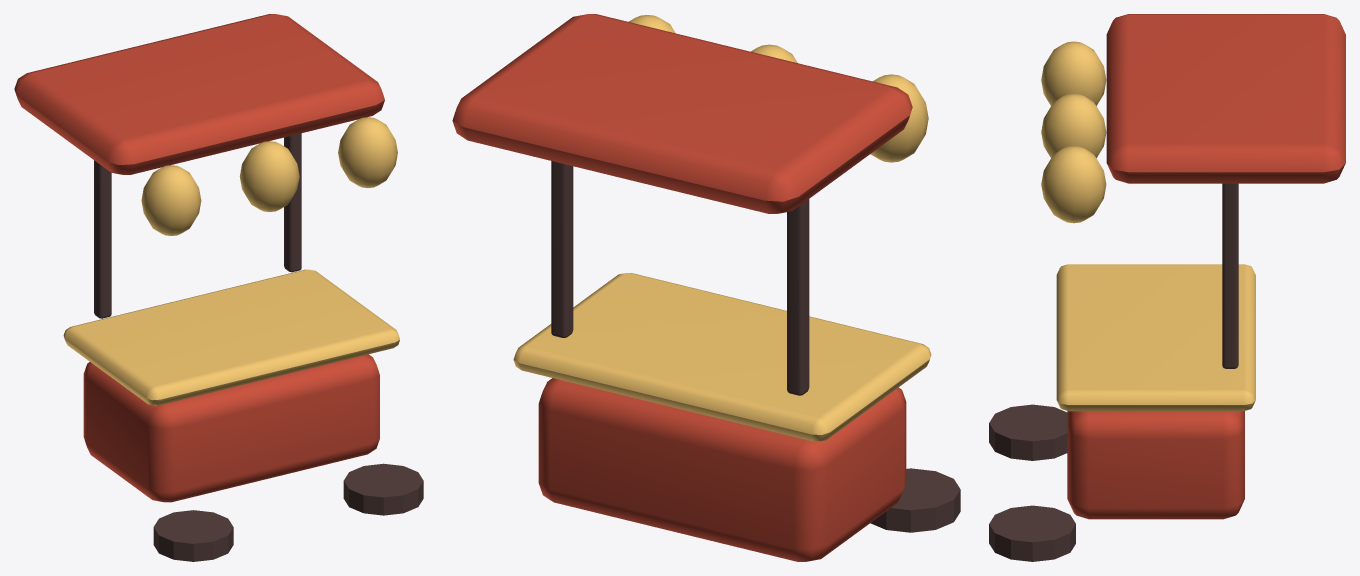
Rendered from cart.glb.
The picture shows the model from 3 angles, left to right: view 1: azimuth 30°, elevation 25°; view 2: azimuth 150°, elevation 25°; view 3: azimuth 270°, elevation 25°; orthographic projection. The views are drawn at different scales.
Visible parts, largest first — view 1: awning, cart-body, counter, wheel, wheel.001, lantern, lantern.002, lantern.001, awning-post, awning-post.001; view 2: awning, cart-body, counter, awning-post, awning-post.001, wheel, lantern; view 3: awning, counter, cart-body, wheel.001, wheel, lantern.002, awning-post.001, lantern, lantern.001.
Boxes of the visible parts, box(x1,y1,x2,y2) form: awning: box(14, 14, 384, 174); cart-body: box(83, 354, 379, 502); counter: box(63, 269, 399, 405); wheel: box(153, 510, 233, 561); wheel.001: box(343, 463, 423, 515); lantern: box(141, 165, 201, 235); lantern.002: box(338, 117, 397, 187); lantern.001: box(239, 141, 299, 211); awning-post: box(94, 160, 111, 318); awning-post.001: box(284, 133, 301, 272); awning: box(452, 14, 912, 213); cart-body: box(538, 378, 906, 561); counter: box(513, 273, 931, 441); awning-post: box(787, 199, 809, 395); awning-post.001: box(551, 161, 573, 337); wheel: box(870, 468, 960, 532); lantern: box(870, 74, 928, 162); awning: box(1106, 14, 1345, 183); counter: box(1056, 264, 1255, 411); cart-body: box(1067, 411, 1244, 519); wheel.001: box(989, 505, 1075, 561); wheel: box(989, 404, 1067, 460); lantern.002: box(1041, 146, 1106, 223); awning-post.001: box(1222, 183, 1238, 368); lantern: box(1041, 41, 1106, 105); lantern.001: box(1041, 93, 1106, 157).
Bounding box in the file's own units: 0.8448 × 1.11 × 0.866.
